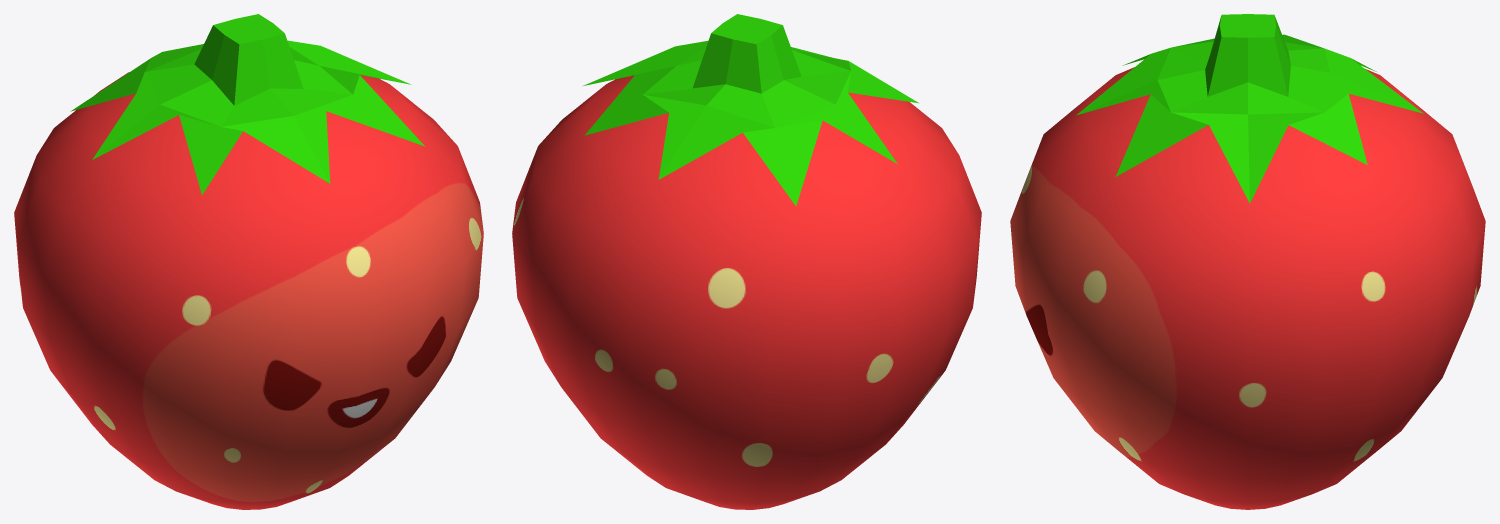
File: fruit_1.glb
3 views of the same model, side by side, from view 1: azimuth 30°, elevation 25°; view 2: azimuth 150°, elevation 25°; view 3: azimuth 270°, elevation 25° (orthographic).
Visible parts, largest first — view 1: 1_FRUIT; view 2: 1_FRUIT; view 3: 1_FRUIT.
Part boxes in pixels (x1,y1,x2,y2): 1_FRUIT: [14, 14, 483, 509]; 1_FRUIT: [512, 14, 981, 509]; 1_FRUIT: [1010, 14, 1485, 509].
Size of the model in its own units: 2.24 by 2.45 by 2.24.
2 materials, 1 textured.
